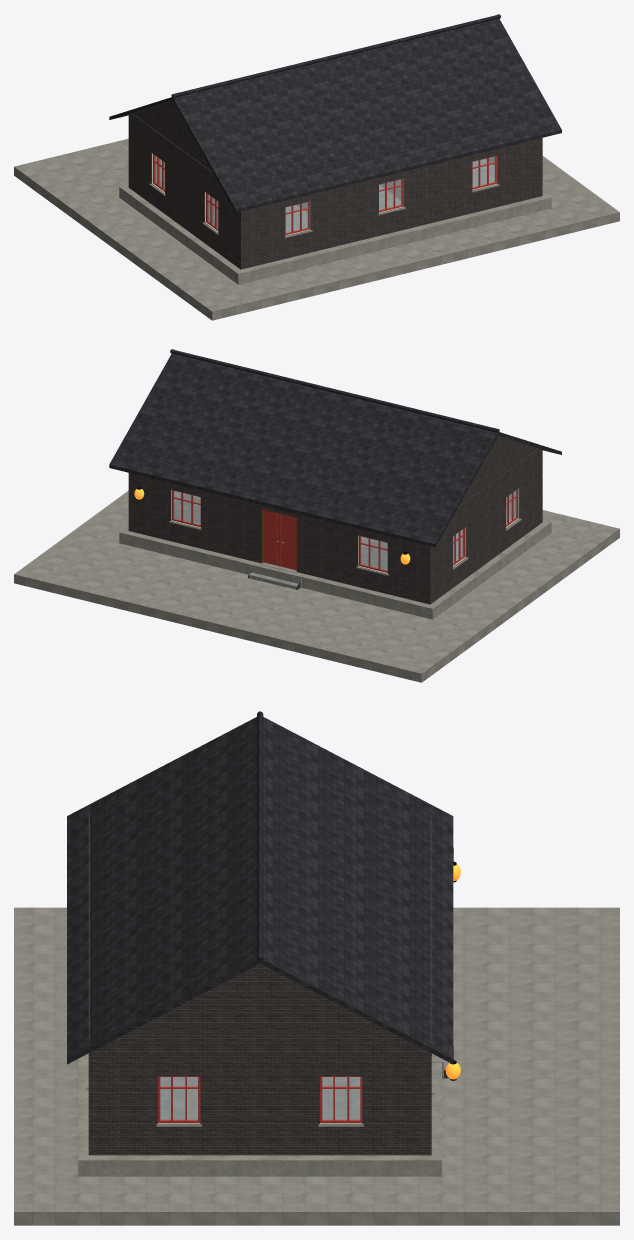
File: b_beijing_siheyuan_gate.gltf
3 renders of one model, top to bottom at view 1: azimuth 30°, elevation 25°; view 2: azimuth 150°, elevation 25°; view 3: azimuth 270°, elevation 25°, orthographic. The views are drawn at different scales.
Parts seen in each view (by area): view 1: S_beijing_siheyuan_gate; view 2: S_beijing_siheyuan_gate, D_beijing_siheyuan_gate_F1_S2_Door0, D_beijing_siheyuan_gate_F1_S2_Door1; view 3: S_beijing_siheyuan_gate.
Part boxes in pixels (<box>): S_beijing_siheyuan_gate: <box>14,14,619,320</box>; S_beijing_siheyuan_gate: <box>14,349,619,682</box>; D_beijing_siheyuan_gate_F1_S2_Door0: <box>263,510,280,566</box>; D_beijing_siheyuan_gate_F1_S2_Door1: <box>281,514,296,570</box>; S_beijing_siheyuan_gate: <box>14,711,619,1225</box>.
Bounding box in the file's own units: 19 × 7.02 × 16.
Materials: 17 (10 with a texture image).
